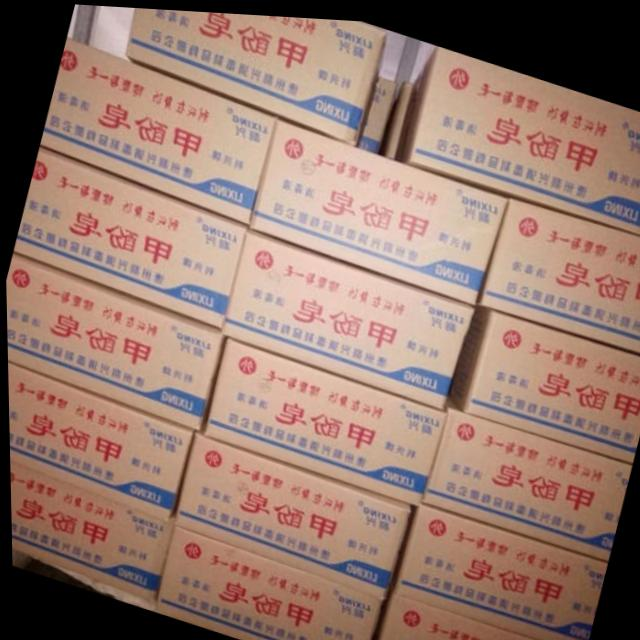box: (247, 114, 508, 298), (392, 40, 640, 228), (219, 225, 473, 404), (40, 37, 278, 222), (13, 145, 248, 327), (202, 334, 444, 501), (170, 427, 407, 594), (5, 252, 226, 428), (125, 6, 387, 141), (418, 388, 630, 553), (387, 495, 605, 640), (446, 301, 640, 455), (6, 360, 194, 518), (153, 522, 378, 640), (475, 191, 640, 346), (8, 461, 173, 599), (365, 577, 558, 640), (355, 71, 396, 148), (377, 76, 411, 153)
